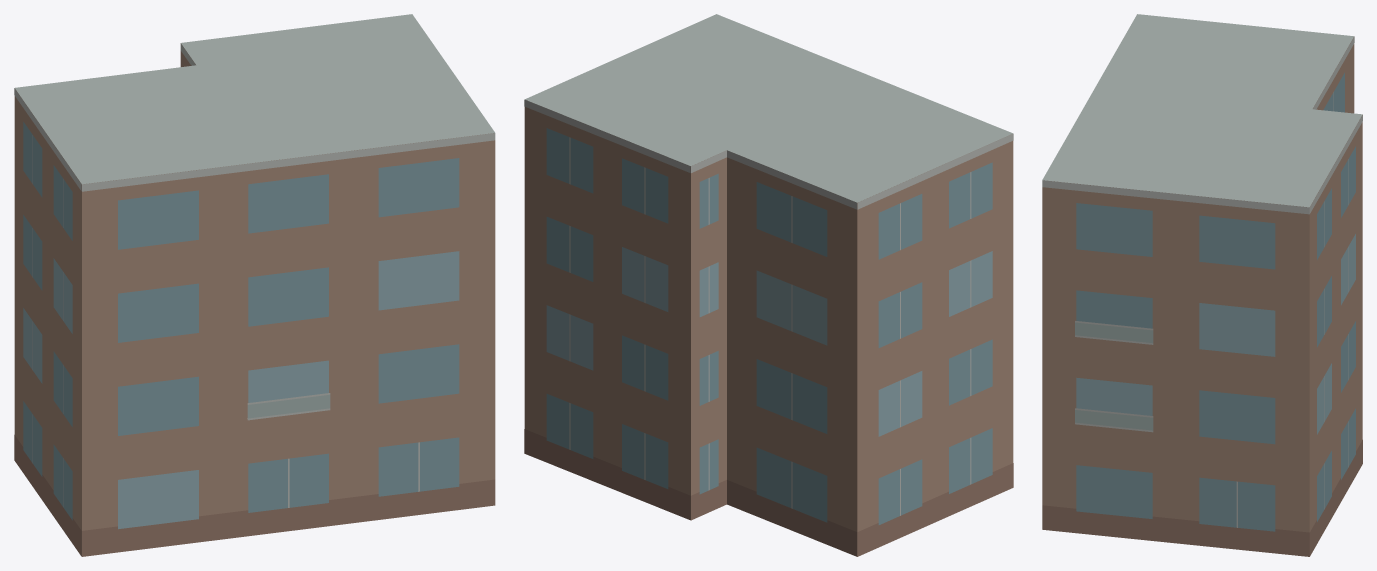
Rendered from residential-21c8360d-a43a-4ed3-a7c7-9762c989ab19.glb.
3 views of the same model, side by side, from view 1: azimuth 30°, elevation 25°; view 2: azimuth 150°, elevation 25°; view 3: azimuth 270°, elevation 25° (orthographic). The views are drawn at different scales.
Visible parts, largest first — view 1: residential-21c8360d-a43a-4ed3-a7c7-9762c989ab19.tmp; view 2: residential-21c8360d-a43a-4ed3-a7c7-9762c989ab19.tmp; view 3: residential-21c8360d-a43a-4ed3-a7c7-9762c989ab19.tmp.
Boxes of the visible parts, x1=… form: residential-21c8360d-a43a-4ed3-a7c7-9762c989ab19.tmp: x1=14, y1=14, x2=495, y2=556; residential-21c8360d-a43a-4ed3-a7c7-9762c989ab19.tmp: x1=524, y1=14, x2=1013, y2=556; residential-21c8360d-a43a-4ed3-a7c7-9762c989ab19.tmp: x1=1042, y1=14, x2=1362, y2=556.
Bounding box in the file's own units: 14.49 × 12.2 × 10.15.
